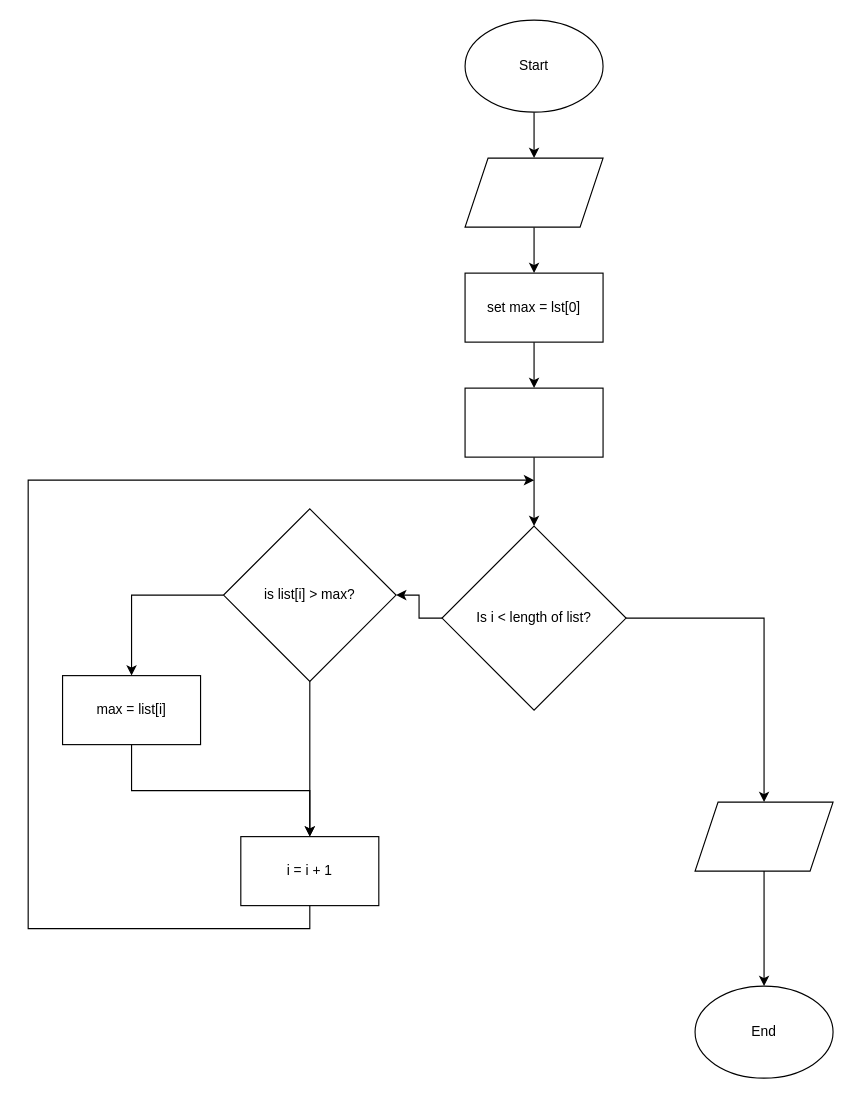
Some shapes in this 853 by 1098 pixel diagram are drawn without their labels. The centre of each missing label's shape, as x and y in pixels:
Input list: point (533, 192)
Print max: point (763, 836)
set i = 1: point (533, 422)
